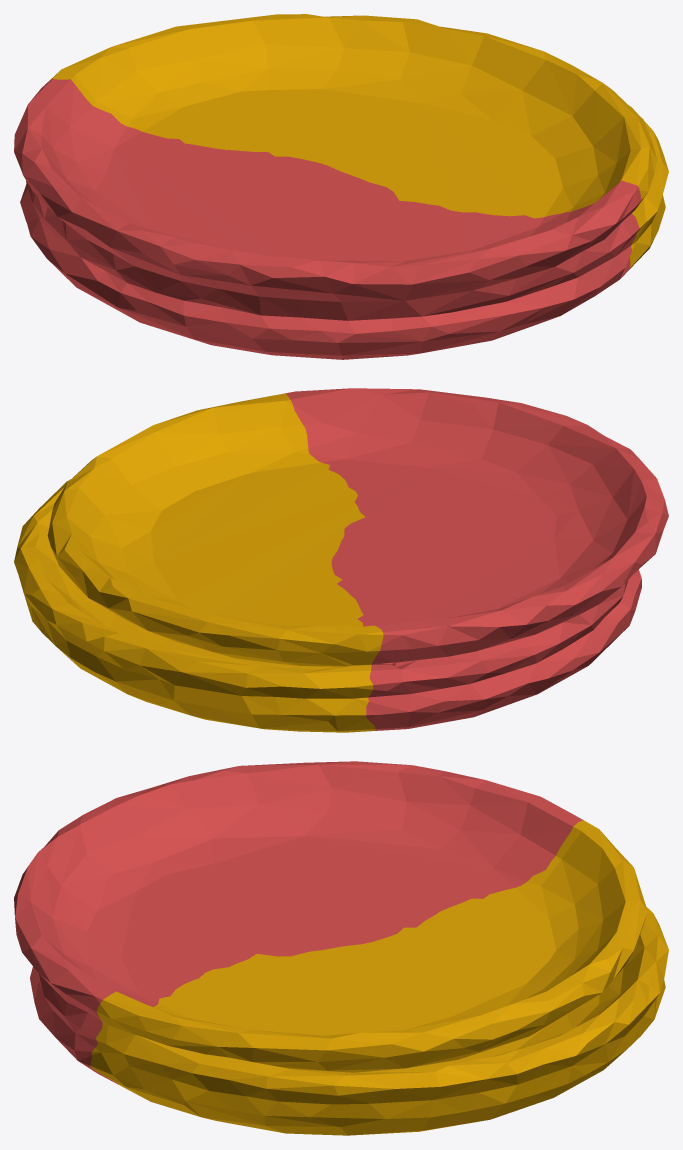
File: fractured_5_2pcs.glb
3 views of the same model, one above another, from view 1: azimuth 30°, elevation 25°; view 2: azimuth 150°, elevation 25°; view 3: azimuth 270°, elevation 25° (orthographic). The views are drawn at different scales.
Visible parts, largest first — view 1: piece_1.obj, piece_0.obj; view 2: piece_1.obj, piece_0.obj; view 3: piece_0.obj, piece_1.obj.
Part boxes in pixels (x1=…): piece_1.obj: x1=14, y1=79, x2=641, y2=359; piece_0.obj: x1=50, y1=14, x2=668, y2=269; piece_1.obj: x1=286, y1=388, x2=668, y2=731; piece_0.obj: x1=14, y1=393, x2=383, y2=732; piece_0.obj: x1=90, y1=820, x2=668, y2=1135; piece_1.obj: x1=14, y1=761, x2=583, y2=1084.
Size of the model in its own units: 1 by 0.233 by 0.9935.
